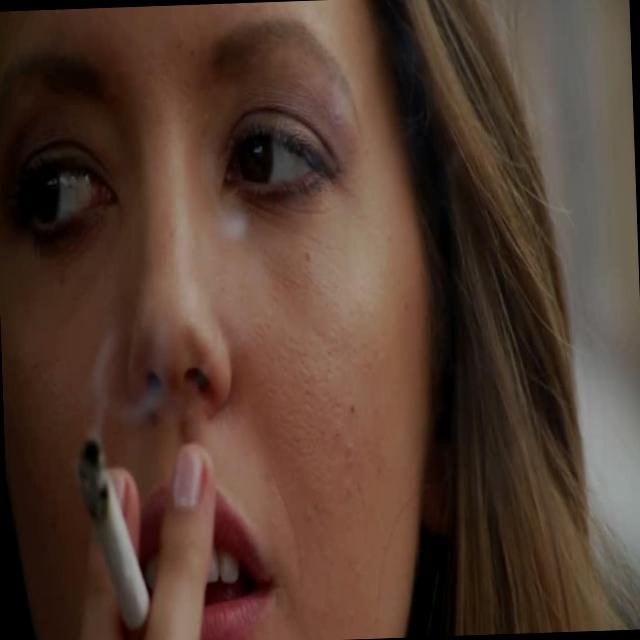cigarette: (60, 394, 170, 640)
